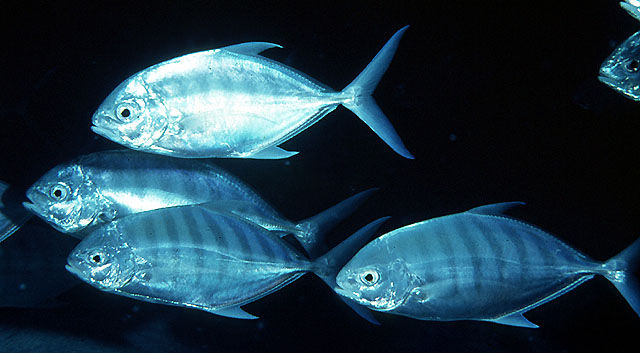fish: (91, 24, 415, 160), (63, 202, 389, 330), (335, 201, 640, 330), (22, 148, 372, 258)
